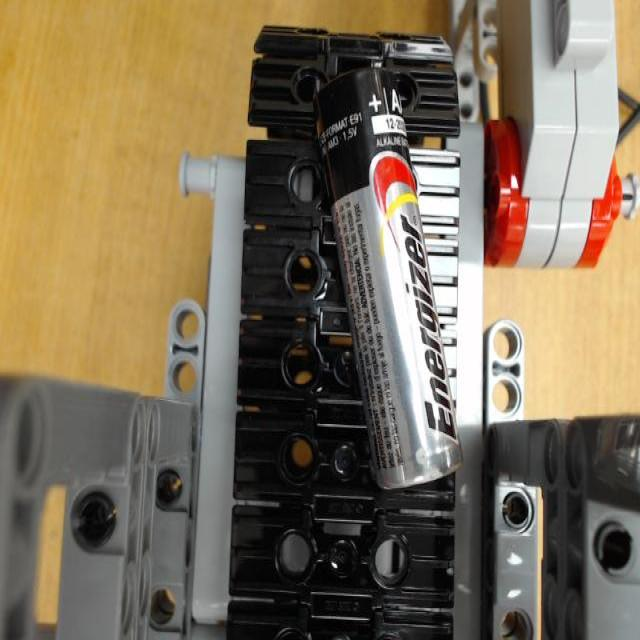AA: (307, 67, 465, 493)
